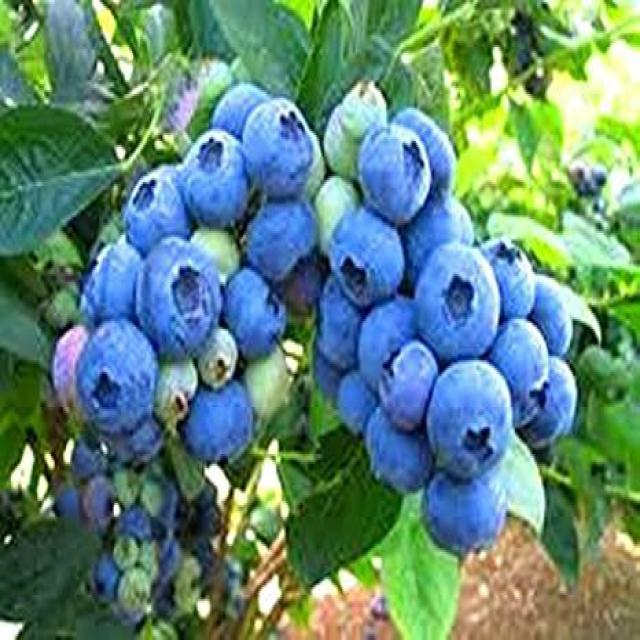BlueBerry - v1: (422, 354, 518, 490), (412, 235, 505, 374), (70, 315, 163, 444), (130, 233, 218, 366), (174, 123, 256, 239), (239, 92, 323, 202), (354, 117, 432, 235), (360, 395, 442, 507), (177, 374, 265, 477), (422, 466, 514, 564), (327, 200, 408, 311), (481, 313, 552, 437), (118, 153, 197, 260), (218, 262, 297, 368), (324, 76, 397, 184), (390, 94, 462, 200), (248, 190, 322, 292), (353, 290, 420, 399), (468, 215, 536, 319), (377, 333, 442, 436), (80, 240, 151, 332), (516, 255, 577, 358), (521, 350, 578, 454), (153, 352, 210, 447), (316, 272, 368, 376), (328, 366, 385, 452), (207, 74, 272, 145), (240, 337, 294, 422), (316, 170, 358, 252), (202, 321, 246, 399)
